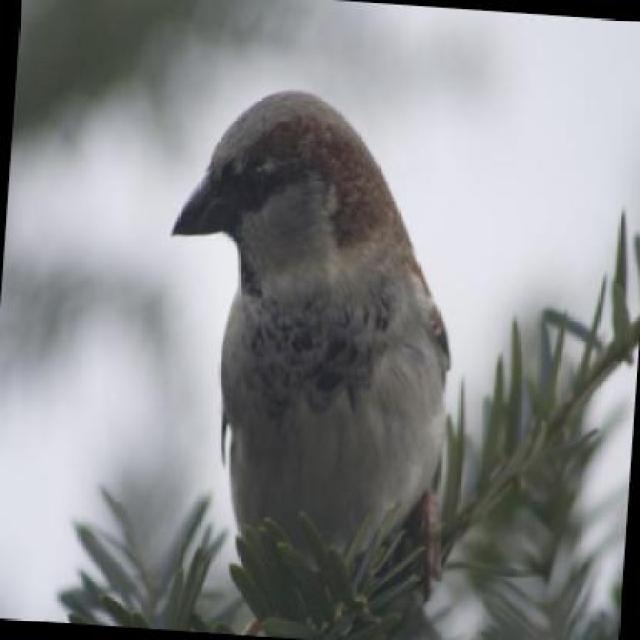sparrow: (147, 81, 471, 582)
